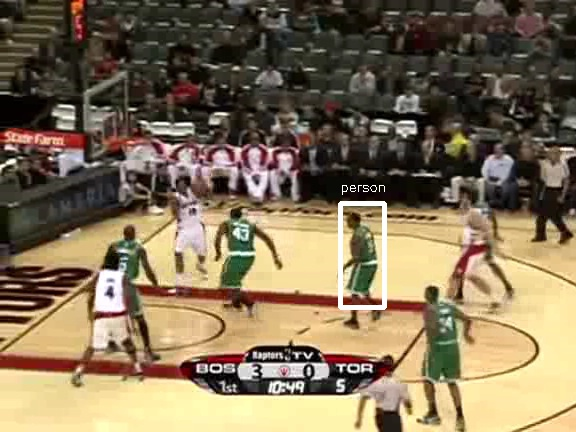person: (351, 220, 385, 301), (350, 220, 384, 301), (352, 220, 386, 301), (351, 219, 385, 300), (351, 221, 385, 302)
target_negative: (186, 12, 545, 322), (12, 237, 524, 372), (226, 135, 392, 270), (70, 345, 300, 428), (474, 95, 543, 348), (453, 427, 505, 431)
